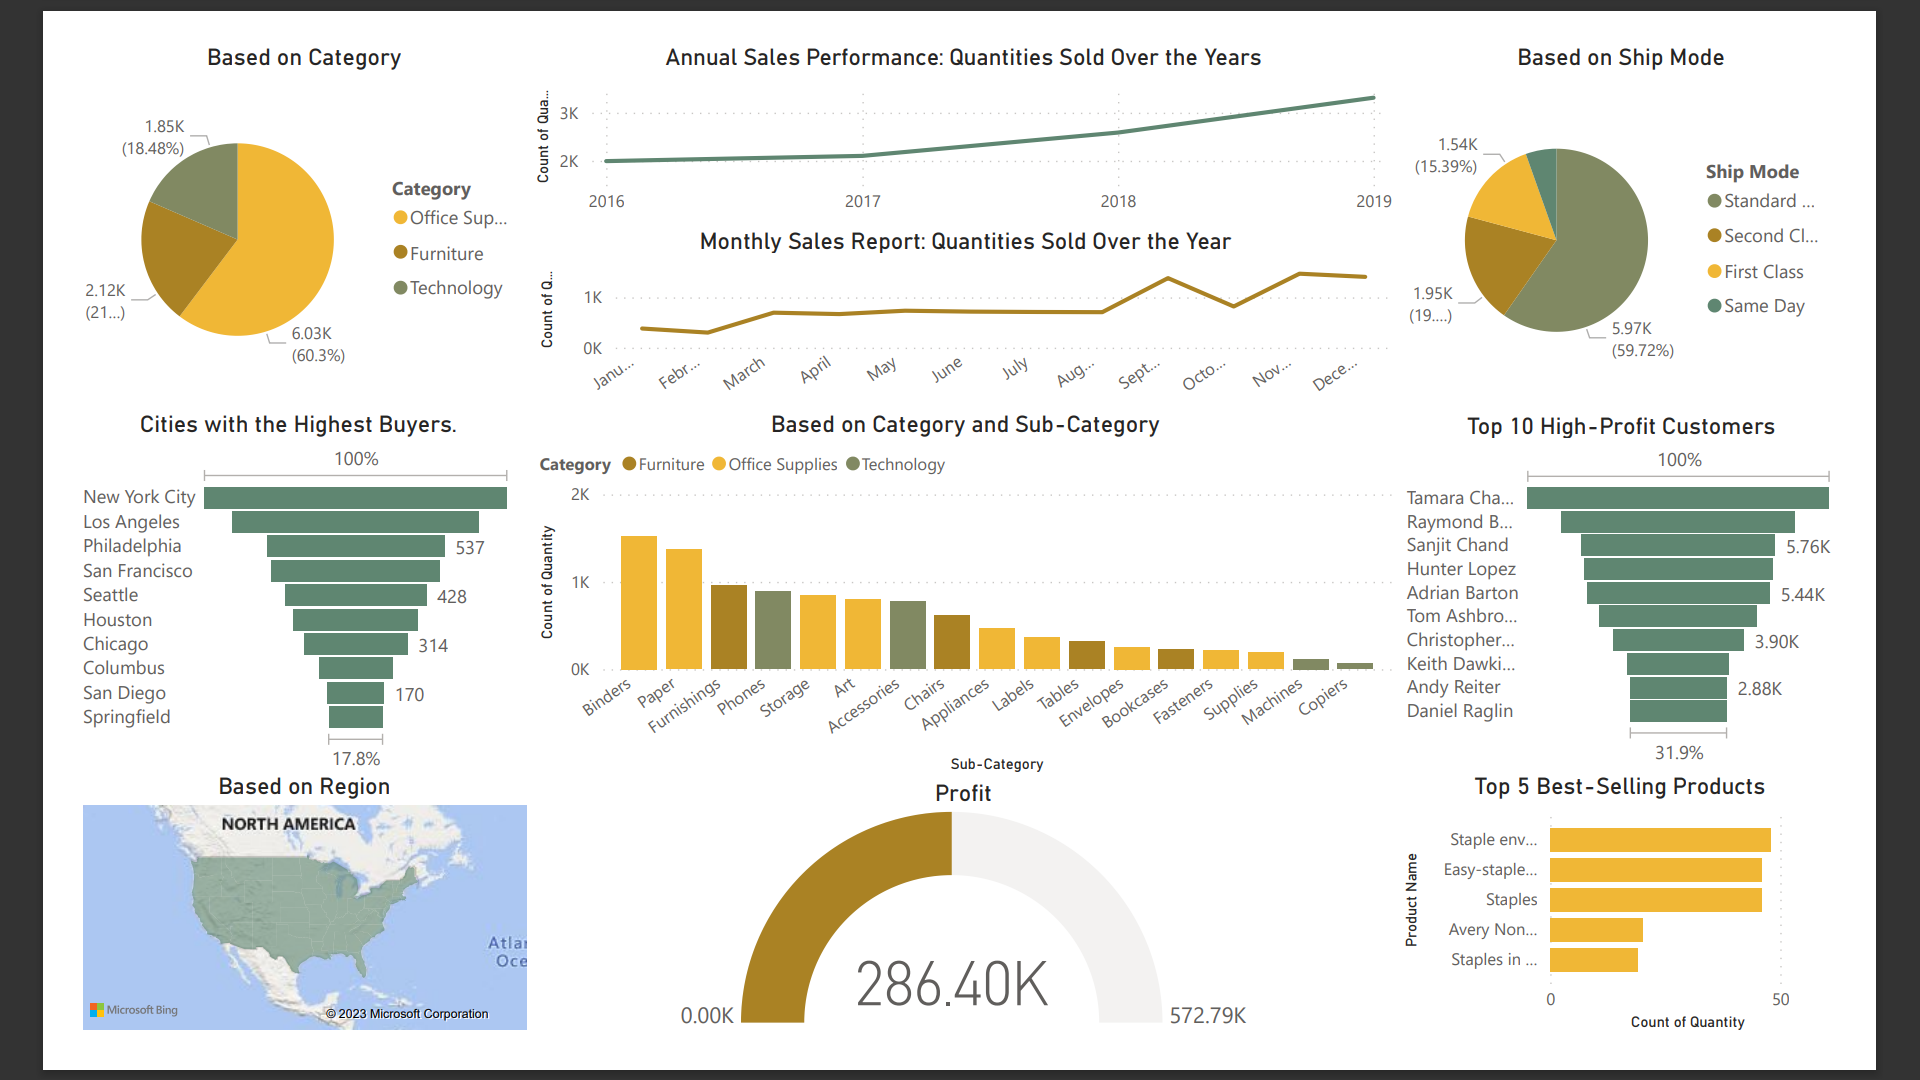

The dashboard page shown, as its layout file describes it:
{"tool":"powerbi","page":{"name":"Superstore","canvas":[1280,720],"ordinal":0},"visuals":[{"type":"funnel","title":"Cities with the Highest Buyers.","fields":{"Category":["Orders.City"],"Y":["CountNonNull(Orders.Quantity)"]},"box":[0,266.3,322.3,266.3],"z":0},{"type":"pieChart","title":"Based on Category","fields":{"Category":["Orders.Category"],"Y":["CountNonNull(Orders.Quantity)"]},"box":[0,0,331.3,266.3],"z":1000},{"type":"lineChart","title":"Annual Sales Performance: Quantities Sold Over the Years","fields":{"Category":["Orders.Order Date.Variation.Date Hierarchy.Year","Orders.Order Date.Variation.Date Hierarchy.Quarter","Orders.Order Date.Variation.Date Hierarchy.Month","Orders.Order Date.Variation.Date Hierarchy.Day"],"Y":["CountNonNull(Orders.Quantity)"]},"box":[328.3,0,629.4,133.1],"z":2000},{"type":"lineChart","title":"Monthly Sales Report: Quantities Sold Over the Year","fields":{"Category":["Orders.Order Date.Variation.Date Hierarchy.Month","Orders.Order Date.Variation.Date Hierarchy.Day"],"Y":["CountNonNull(Orders.Quantity)"]},"box":[331.3,133.1,626.4,133.1],"z":3000},{"type":"pieChart","title":"Based on Ship Mode","fields":{"Category":["Orders.Ship Mode"],"Y":["CountNonNull(Orders.Quantity)"]},"box":[958.7,0,320.9,266.5],"z":4000},{"type":"columnChart","title":"Based on Category and Sub-Category","fields":{"Category":["Orders.Sub-Category"],"Y":["CountNonNull(Orders.Quantity)"],"Series":["Orders.Category"]},"box":[331.3,266.3,626.4,266.3],"z":5000},{"type":"gauge","title":"Profit","fields":{"Y":["Sum(Orders.Profit)"]},"box":[328.8,533,628.5,187],"z":6000},{"type":"filledMap","title":"Based on Region","fields":{"Category":["Orders.State"]},"box":[0,527.7,331.5,192.3],"z":7000},{"type":"funnel","title":"Top 10 High-Profit Customers","fields":{"Category":["Orders.Customer Name"],"Y":["Sum(Orders.Profit)"]},"box":[958.7,266.5,320.9,261.2],"z":8000},{"type":"barChart","title":"Top 5 Best-Selling Products","fields":{"Category":["Orders.Product Name"],"Y":["CountNonNull(Orders.Quantity)"]},"box":[957.3,527.7,322.2,192.3],"z":9000}]}

Visuals, with their boxes in screenshot pixels (x1, y1, x2, y2), scaled from the page's 1280x720 canvas onto the 1920x1080 screenshot:
"Cities with the Highest Buyers." funnel: {"left": 0, "top": 399, "right": 483, "bottom": 799}
"Based on Category" pieChart: {"left": 0, "top": 0, "right": 497, "bottom": 399}
"Annual Sales Performance: Quantities Sold Over the Years" lineChart: {"left": 492, "top": 0, "right": 1437, "bottom": 200}
"Monthly Sales Report: Quantities Sold Over the Year" lineChart: {"left": 497, "top": 200, "right": 1437, "bottom": 399}
"Based on Ship Mode" pieChart: {"left": 1438, "top": 0, "right": 1919, "bottom": 400}
"Based on Category and Sub-Category" columnChart: {"left": 497, "top": 399, "right": 1437, "bottom": 799}
"Profit" gauge: {"left": 493, "top": 800, "right": 1436, "bottom": 1079}
"Based on Region" filledMap: {"left": 0, "top": 792, "right": 497, "bottom": 1079}
"Top 10 High-Profit Customers" funnel: {"left": 1438, "top": 400, "right": 1919, "bottom": 792}
"Top 5 Best-Selling Products" barChart: {"left": 1436, "top": 792, "right": 1919, "bottom": 1079}
